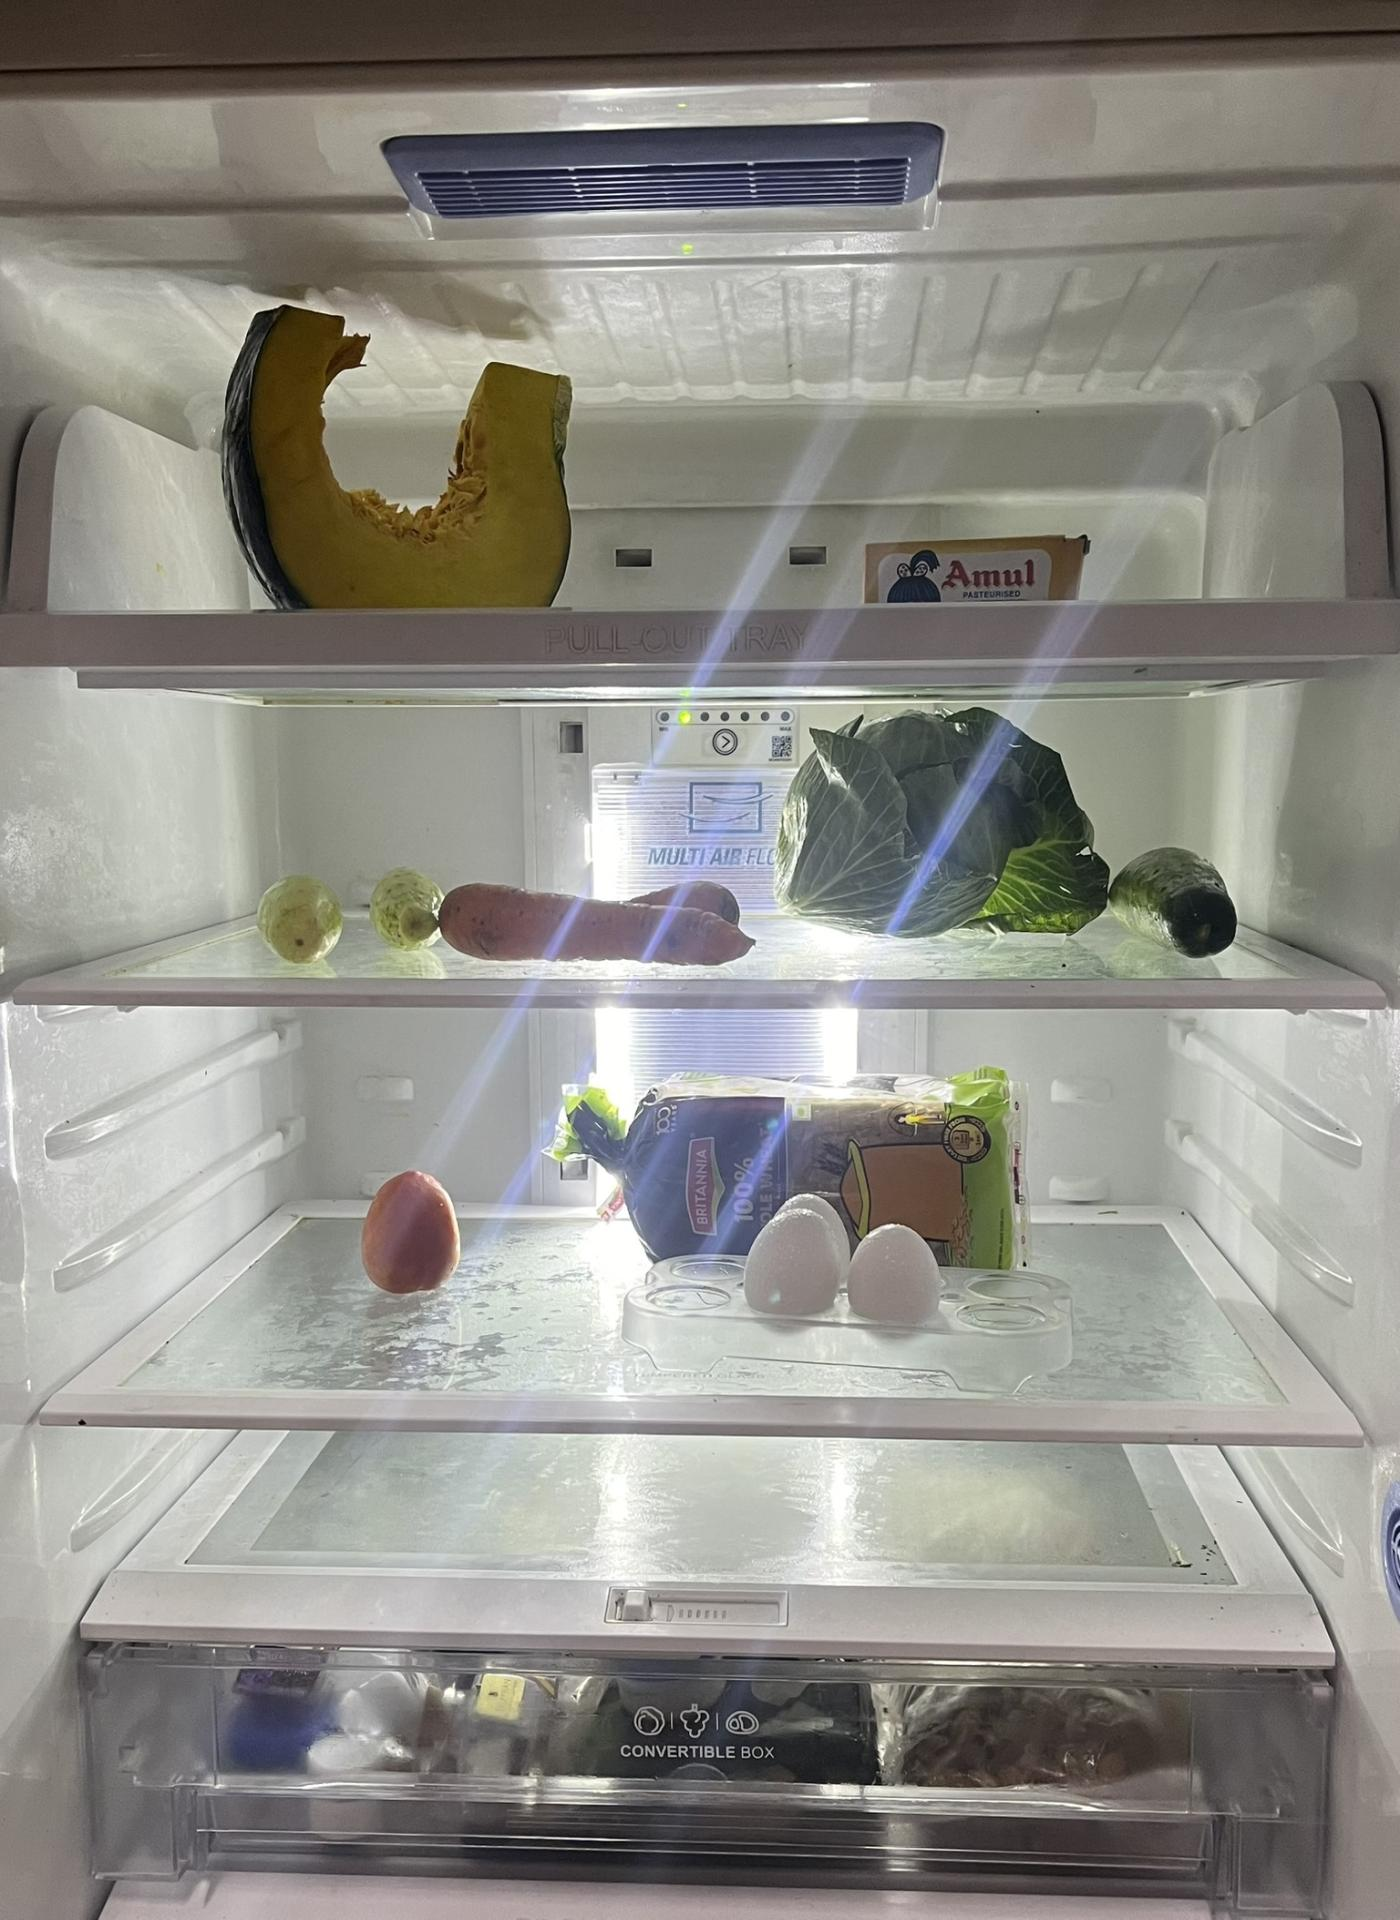bread: (589, 1060, 1039, 1266)
butter: (862, 525, 1094, 611)
cabbage: (790, 713, 1118, 935)
carrots: (431, 869, 754, 964)
cucumber: (1115, 844, 1224, 953), (255, 878, 340, 960)
egg: (737, 1196, 962, 1330)
pumpkin: (213, 291, 574, 614)
tomato: (352, 1172, 468, 1300)
